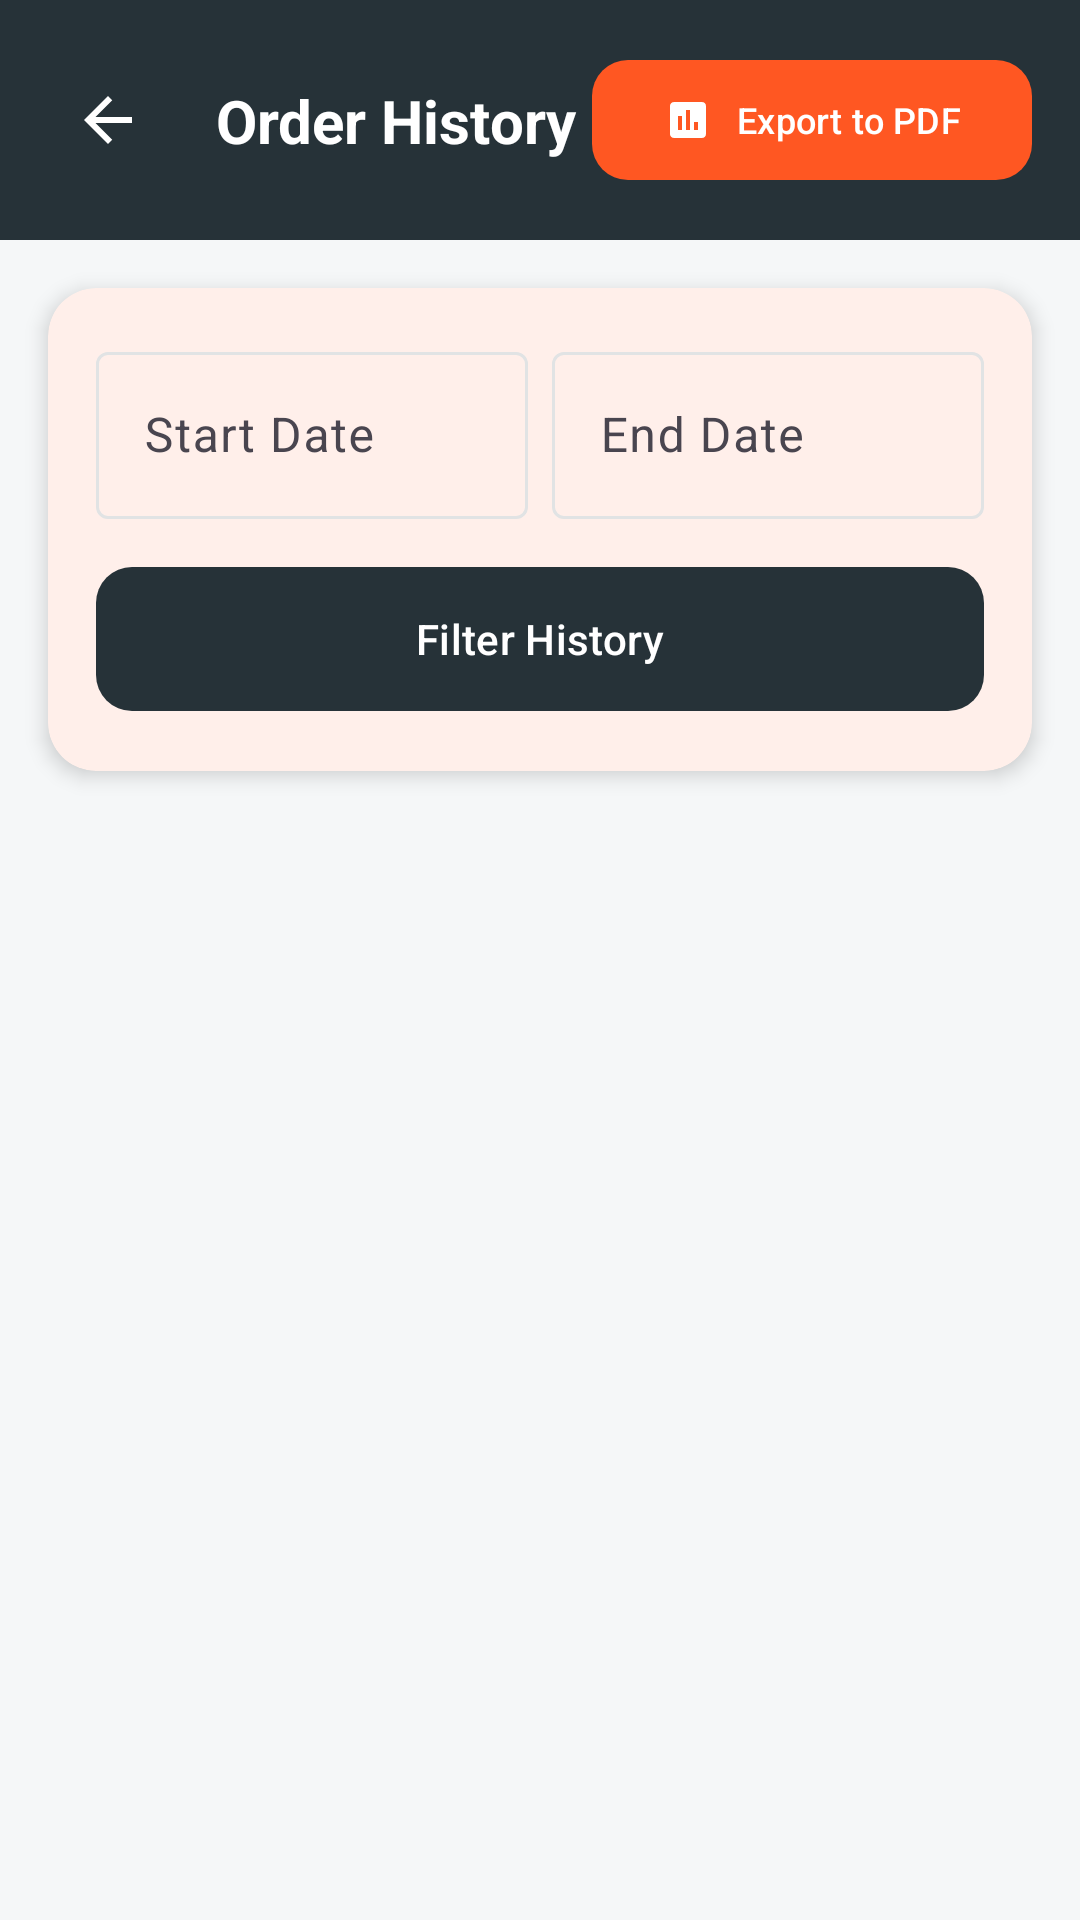

Icon click points for this 1080*1920 phone screenshot, format (x,y):
back: (108,120)
